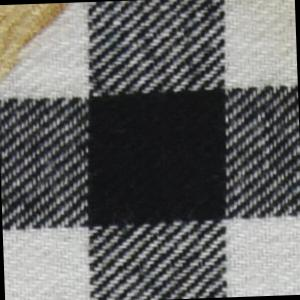Oil Stain: (1, 4, 80, 88)
